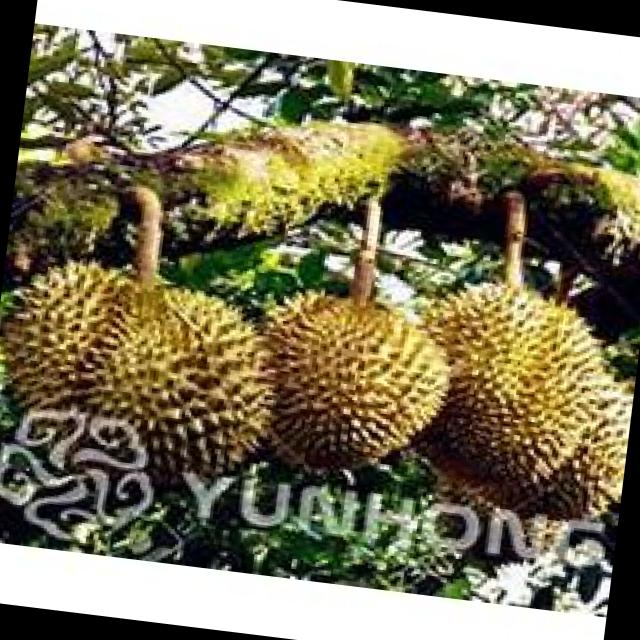fruit: (0, 216, 337, 546), (363, 233, 640, 602), (180, 231, 497, 532)
